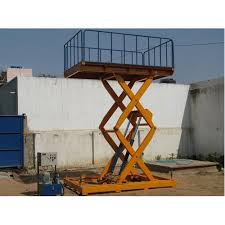Scissor Lift: (62, 29, 177, 196)
